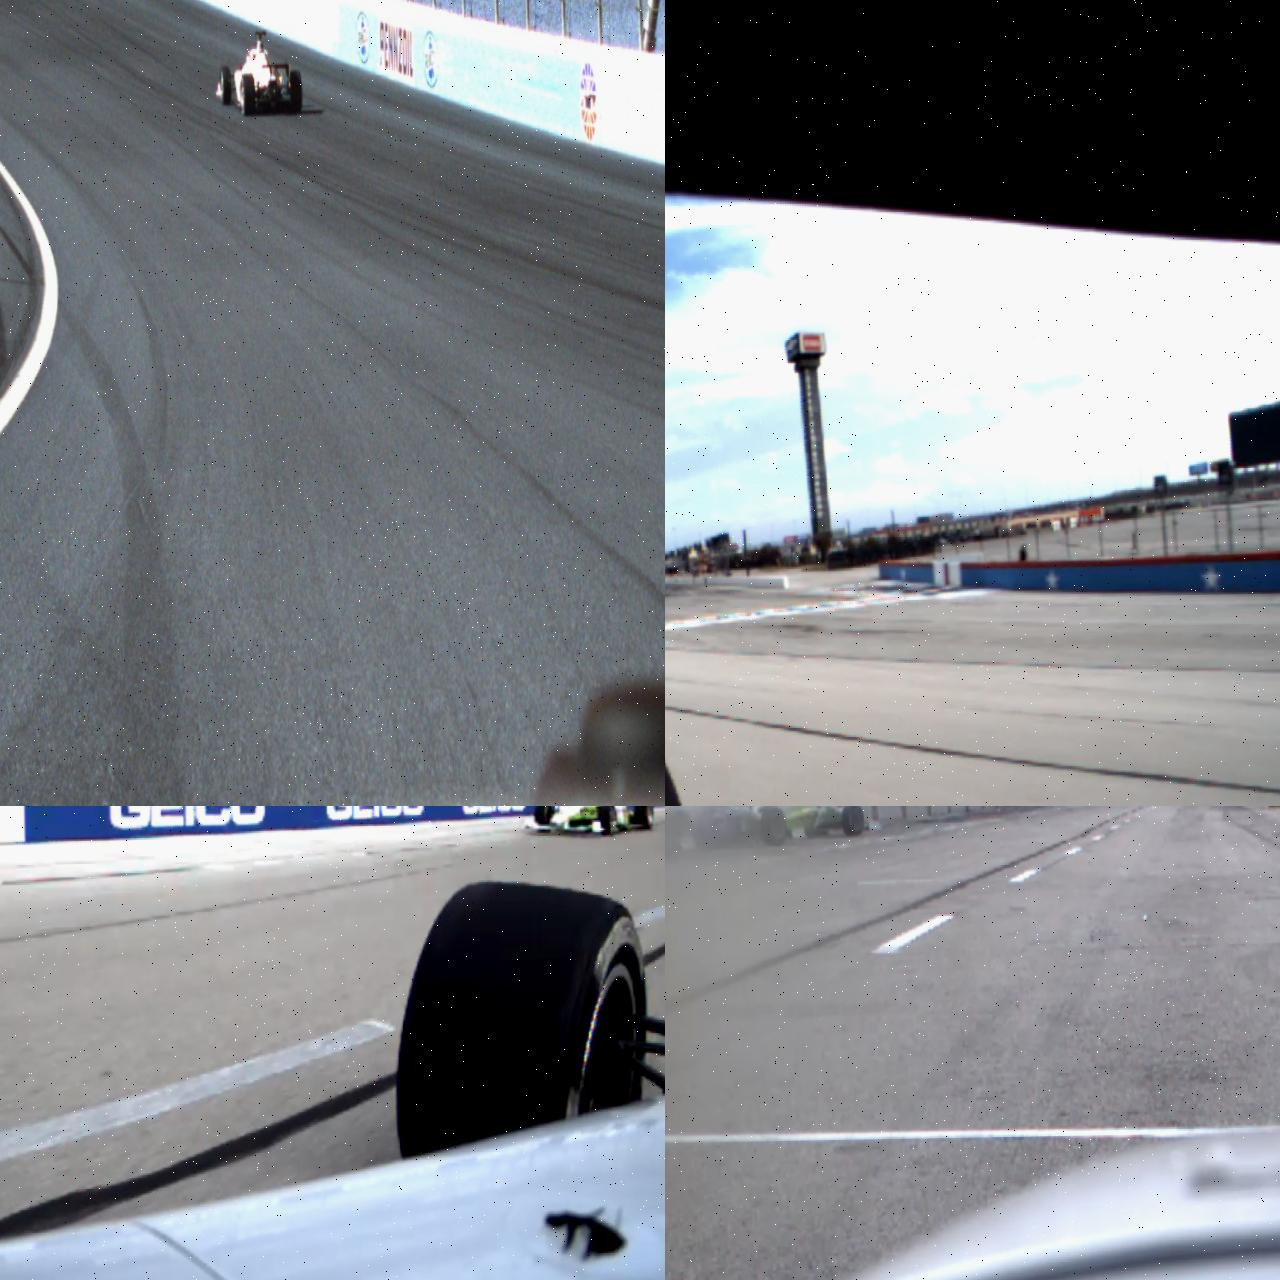AV: (215, 29, 302, 116), (665, 806, 787, 850), (520, 806, 654, 837), (749, 806, 865, 839)
Wheel: (394, 878, 652, 1158), (761, 806, 787, 846), (842, 806, 865, 837), (240, 75, 256, 116), (290, 70, 302, 113), (599, 806, 617, 836), (535, 806, 553, 832), (634, 806, 654, 830), (219, 67, 231, 105)
